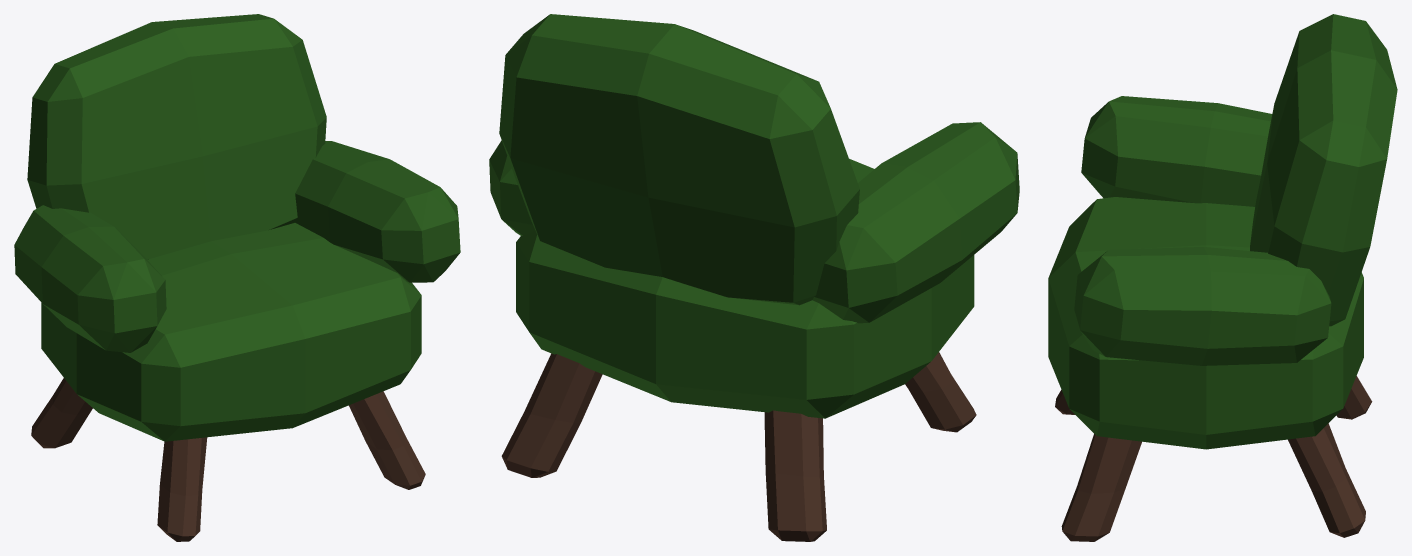
Rendered from armchair.fbx.
3 views of the same model, side by side, from view 1: azimuth 30°, elevation 25°; view 2: azimuth 150°, elevation 25°; view 3: azimuth 270°, elevation 25° (orthographic). The views are drawn at different scales.
Visible parts, largest first — view 1: armchair; view 2: armchair; view 3: armchair.
Part boxes in pixels (x1=…): armchair: x1=14, y1=14, x2=460, y2=541; armchair: x1=489, y1=14, x2=1019, y2=541; armchair: x1=1048, y1=14, x2=1397, y2=541.
Bounding box in the file's own units: 156 × 159 × 118.
